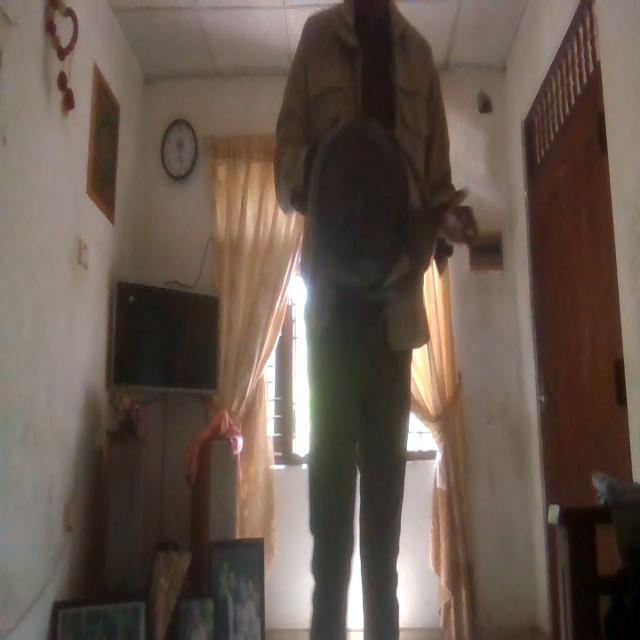Jacket_Wearer: (275, 3, 459, 361)
Person: (276, 0, 458, 640)
